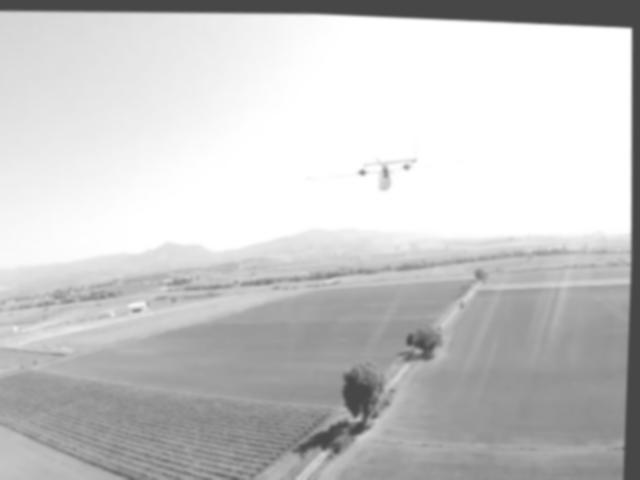hedef: (297, 121, 472, 205)
